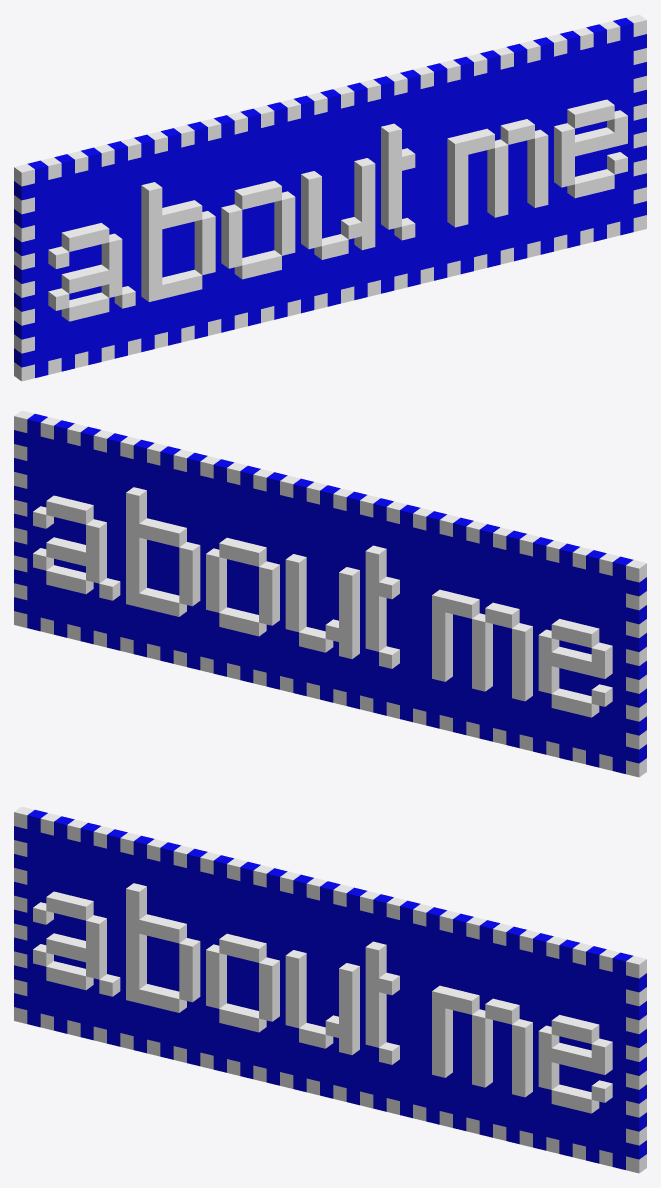
Rendered from about-me.glb.
The picture shows the model from 3 angles, top to bottom: view 1: azimuth 30°, elevation 25°; view 2: azimuth 150°, elevation 25°; view 3: azimuth 330°, elevation 25°; orthographic projection.
Visible parts, largest first — view 1: Untitled.003; view 2: Untitled.003; view 3: Untitled.003.
Boxes of the visible parts, box(x1,y1,x2,y2) form: Untitled.003: box(14, 14, 646, 381); Untitled.003: box(14, 410, 646, 777); Untitled.003: box(14, 806, 646, 1173).
Bounding box in the file's own units: 4.7 × 1.5 × 0.3.
Materials: 1 (1 with a texture image).
